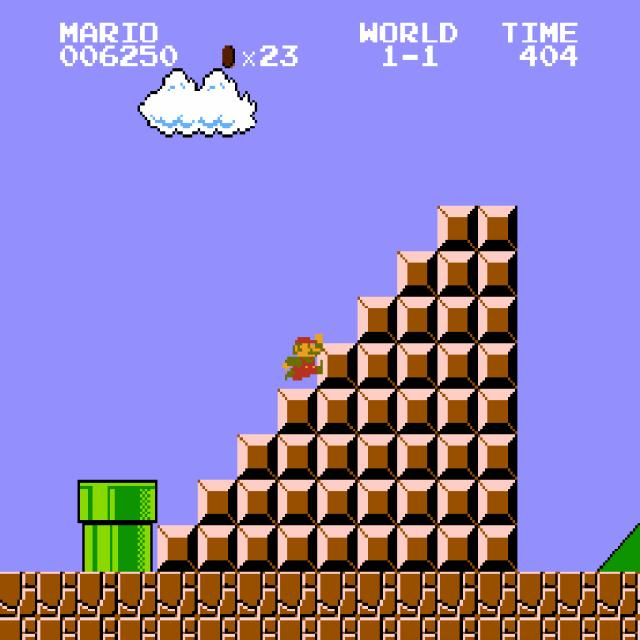hard_block: (197, 480, 238, 526), (237, 434, 278, 480), (237, 480, 278, 526), (277, 434, 318, 480), (277, 480, 318, 526), (317, 434, 358, 480), (317, 480, 358, 526), (357, 297, 398, 343), (357, 434, 398, 480), (357, 480, 398, 526), (397, 297, 438, 343), (397, 434, 438, 480), (397, 480, 438, 526), (437, 297, 478, 343), (437, 434, 478, 480), (437, 480, 478, 526), (477, 297, 518, 343), (477, 434, 518, 480), (477, 480, 518, 526), (157, 526, 198, 571), (197, 526, 238, 571), (237, 526, 278, 571), (277, 389, 318, 434), (277, 526, 318, 571), (317, 343, 358, 388), (317, 389, 358, 434), (317, 526, 358, 571), (357, 343, 398, 388), (357, 389, 398, 434), (357, 526, 398, 571), (397, 252, 438, 297), (397, 343, 438, 388), (397, 389, 438, 434), (397, 526, 438, 571), (437, 206, 478, 251), (437, 252, 478, 297), (437, 343, 478, 388), (437, 389, 478, 434), (437, 526, 478, 571), (477, 206, 518, 251), (477, 252, 518, 297), (477, 343, 518, 388), (477, 389, 518, 434), (477, 526, 518, 571)
little_mario: (283, 331, 325, 380)
pipe: (77, 526, 118, 571), (117, 526, 158, 571)
pipe_head: (77, 480, 118, 526), (117, 480, 158, 526)
undestructible_block: (37, 572, 78, 617), (77, 572, 118, 617), (117, 572, 158, 617), (157, 572, 198, 617), (197, 572, 238, 617), (237, 572, 278, 617), (277, 572, 318, 617), (317, 572, 358, 617), (357, 572, 398, 617), (397, 572, 438, 617), (437, 572, 478, 617), (477, 572, 518, 617), (517, 572, 558, 617), (557, 572, 598, 617), (597, 572, 638, 617), (0, 572, 37, 617), (37, 617, 78, 640), (77, 617, 118, 640), (117, 617, 158, 640), (157, 617, 198, 640), (197, 617, 238, 640), (237, 617, 278, 640), (277, 617, 318, 640), (317, 617, 358, 640), (357, 617, 398, 640), (397, 617, 438, 640), (437, 617, 478, 640), (477, 617, 518, 640), (517, 617, 558, 640), (557, 617, 598, 640), (597, 617, 638, 640), (0, 617, 37, 640), (637, 571, 640, 617), (637, 617, 640, 639)
